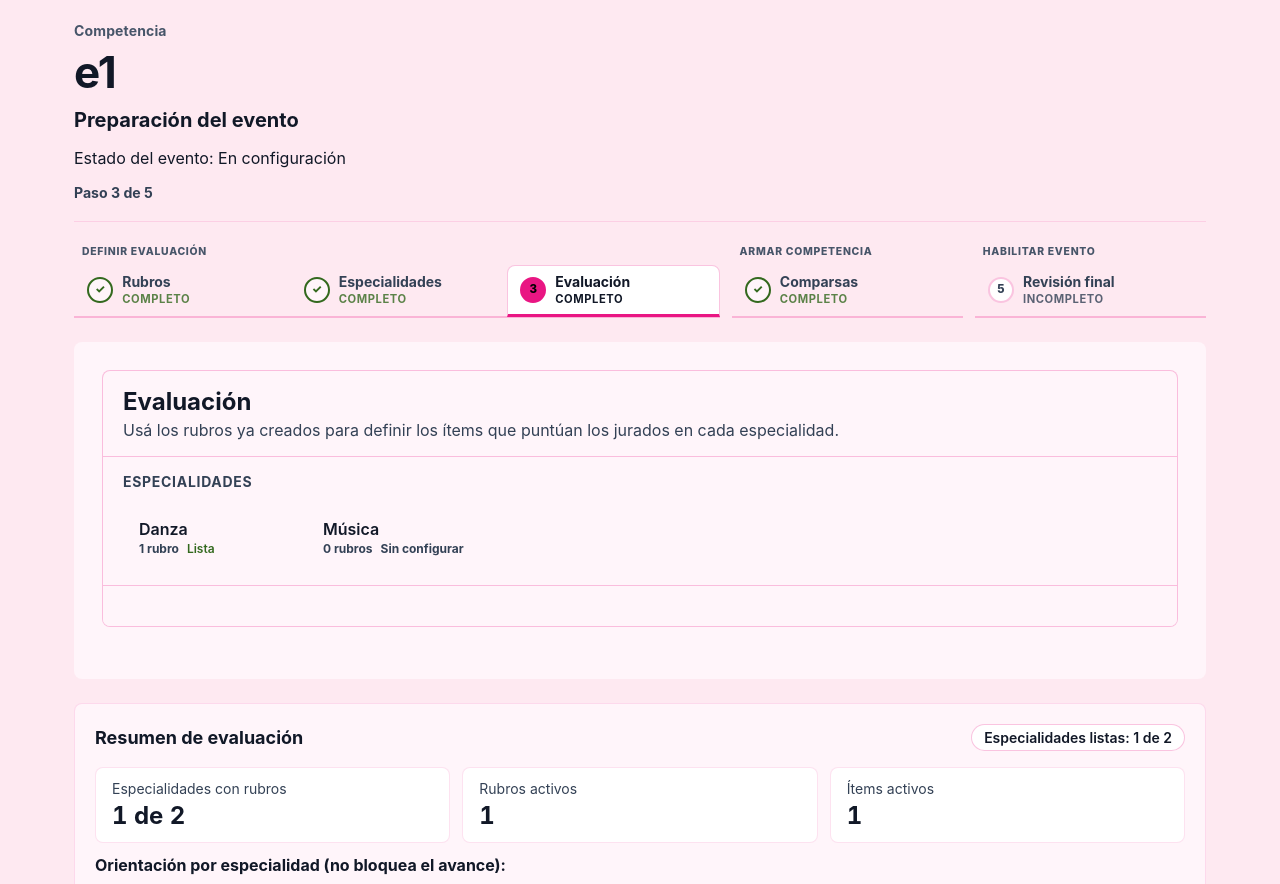
Test case: proyecta una sola lectura vigente en selector, indicador y resumen
Expected: the text "Especialidades listas: 1 de 2" is shown once, left=971, top=724, right=1185, bottom=752
Expected: the text "Usá los rubros ya creados para definir los ítems que puntúan los jurados en cada especialidad." is shown, left=123, top=420, right=839, bottom=440
Click the button "Música 0 rubros Sin configurar" at x=395, y=538, box left=307, top=506, right=483, bottom=570
(page scrolled)
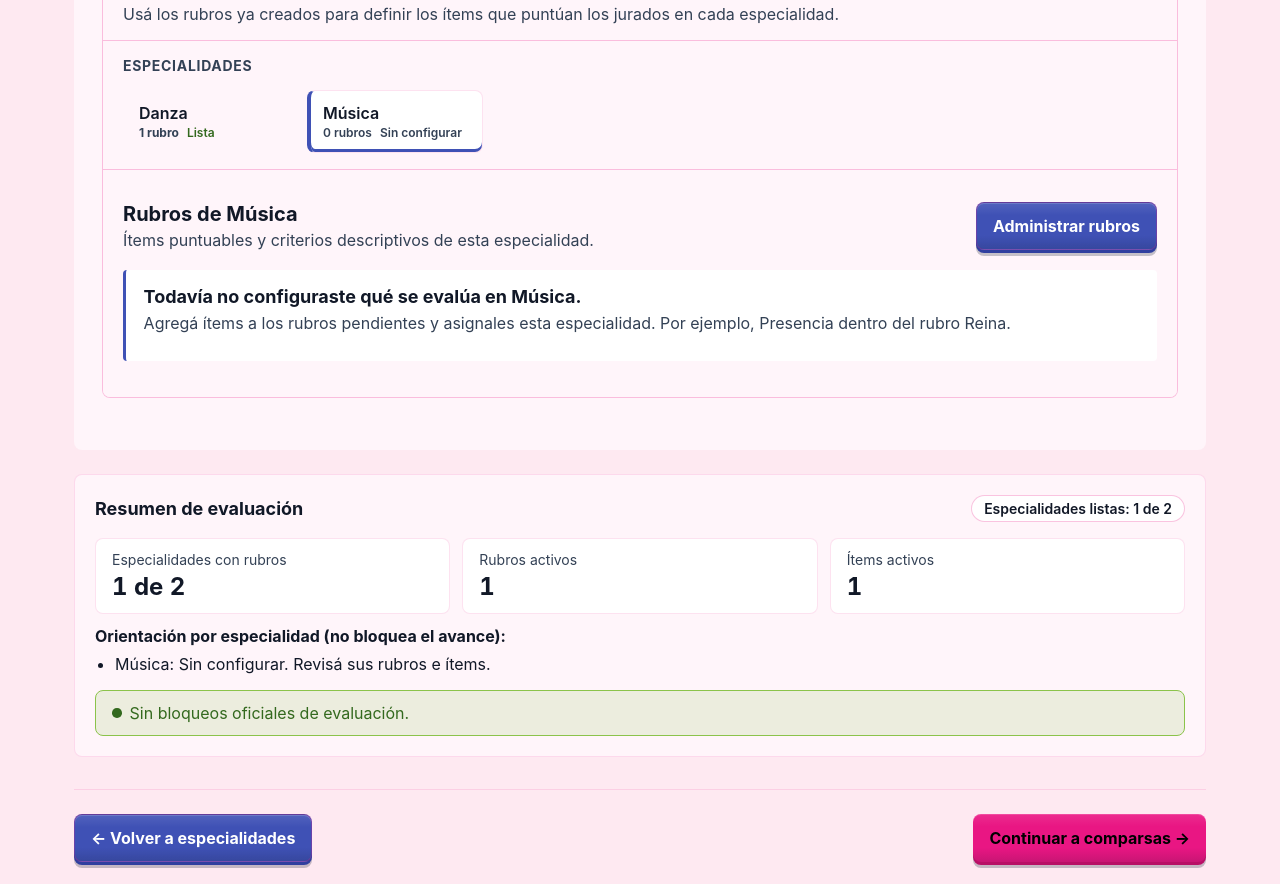
Expected: the text "Especialidades listas: 1 de 2" is shown, left=971, top=495, right=1185, bottom=522
Expected: the heading "Rubros de Música" is shown, left=123, top=202, right=298, bottom=226
